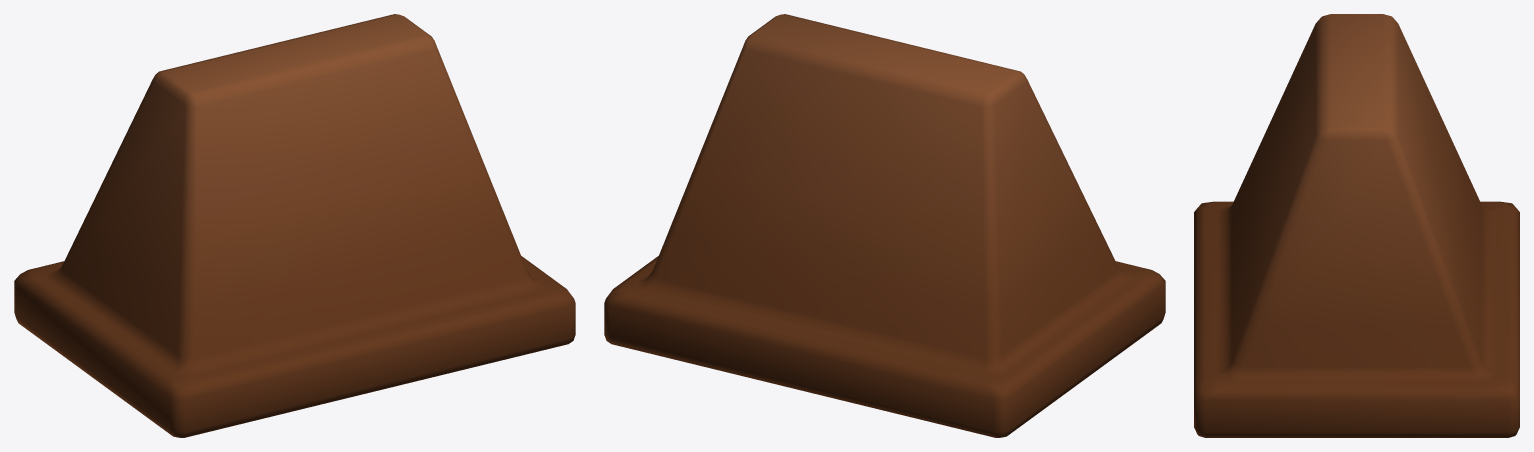
The model's file is candy_choco_7.fbx.
3 renders of one model, left to right at view 1: azimuth 30°, elevation 25°; view 2: azimuth 150°, elevation 25°; view 3: azimuth 270°, elevation 25°, orthographic. The views are drawn at different scales.
Visible parts, largest first — view 1: c_c_7; view 2: c_c_7; view 3: c_c_7.
Part boxes in pixels (x1=…): c_c_7: x1=14, y1=14, x2=575, y2=437; c_c_7: x1=604, y1=14, x2=1165, y2=437; c_c_7: x1=1194, y1=14, x2=1519, y2=437.
Size of the model in its own units: 134 by 88.84 by 95.22.
